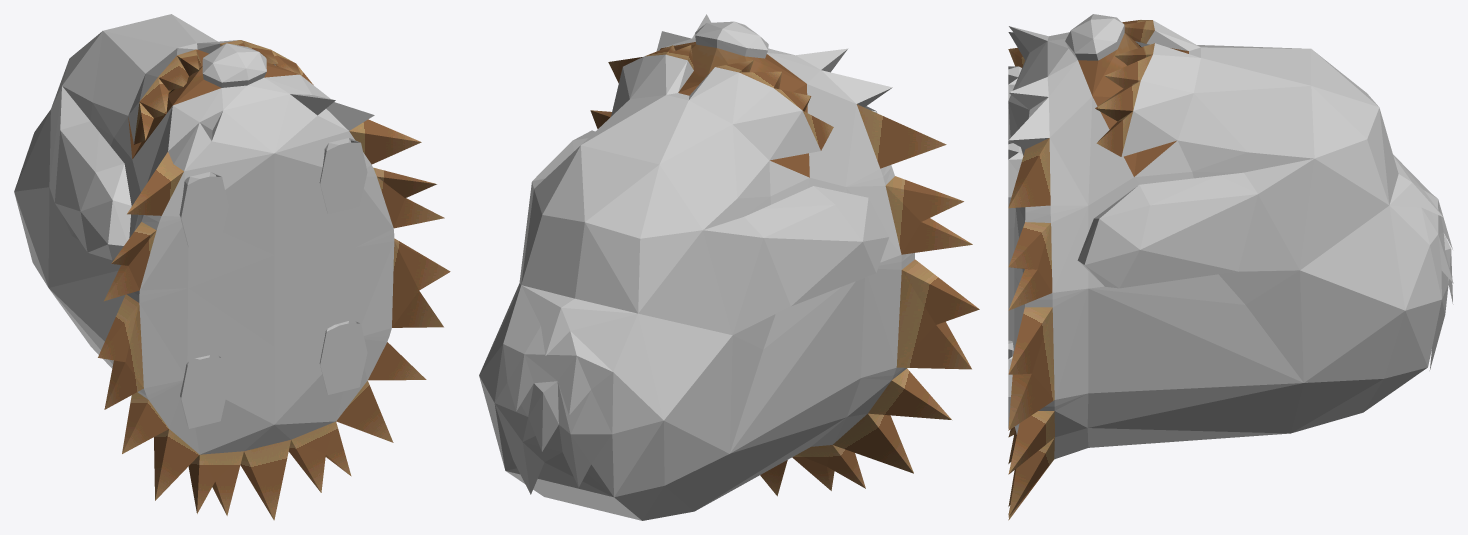
Rendered from BR_Piloswine.obj.
The picture shows the model from 3 angles, left to right: view 1: azimuth 30°, elevation 25°; view 2: azimuth 150°, elevation 25°; view 3: azimuth 270°, elevation 25°; orthographic projection. The views are drawn at different scales.
Parts seen in each view (by area): view 1: inomoo; view 2: inomoo; view 3: inomoo.
Part boxes in pixels (left/top/right/bottom): inomoo: left=14, top=14, right=450, bottom=520; inomoo: left=479, top=14, right=979, bottom=520; inomoo: left=1008, top=14, right=1453, bottom=520.
Size of the model in its own units: 11.77 by 14.09 by 11.63.
